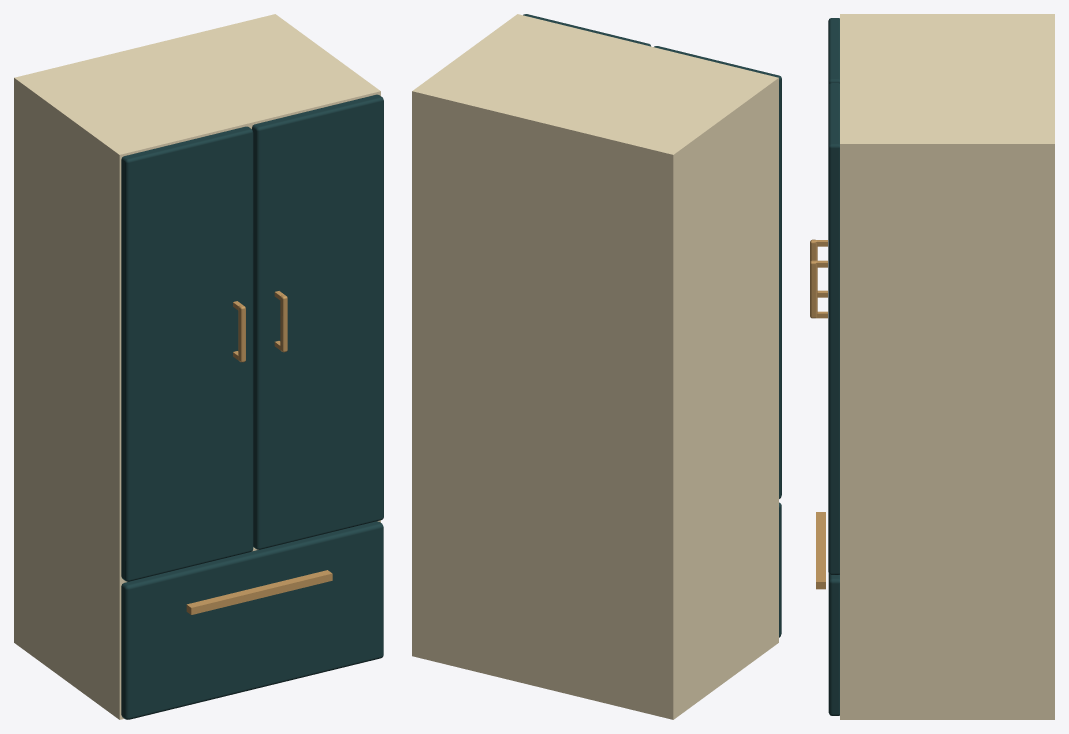
Rendered from fridge_arcade-331069730288.glb.
3 renders of one model, left to right at view 1: azimuth 30°, elevation 25°; view 2: azimuth 150°, elevation 25°; view 3: azimuth 270°, elevation 25°, orthographic.
Visible parts, largest first — view 1: surface_deep, surface_ivory, surface_brass; view 2: surface_ivory, surface_deep; view 3: surface_ivory, surface_deep, surface_brass.
Part boxes in pixels (x1,y1,x2,y2): surface_deep: (121, 94, 383, 719); surface_ivory: (14, 14, 380, 719); surface_brass: (186, 291, 332, 614); surface_ivory: (412, 14, 778, 719); surface_deep: (523, 14, 781, 637); surface_ivory: (840, 14, 1054, 719); surface_deep: (828, 18, 839, 715); surface_brass: (810, 239, 827, 589).
Size of the model in its own units: 0.91 by 1.88 by 0.724.
